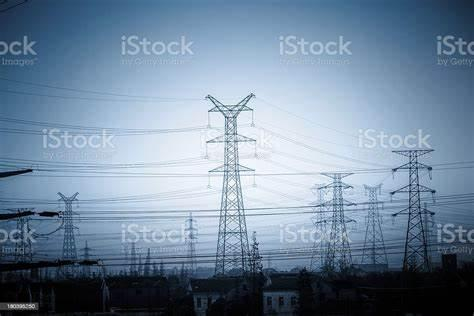power_tower: (200, 91, 266, 284), (390, 147, 443, 272), (318, 167, 358, 272), (363, 181, 391, 272), (55, 189, 83, 267), (183, 211, 201, 280)
